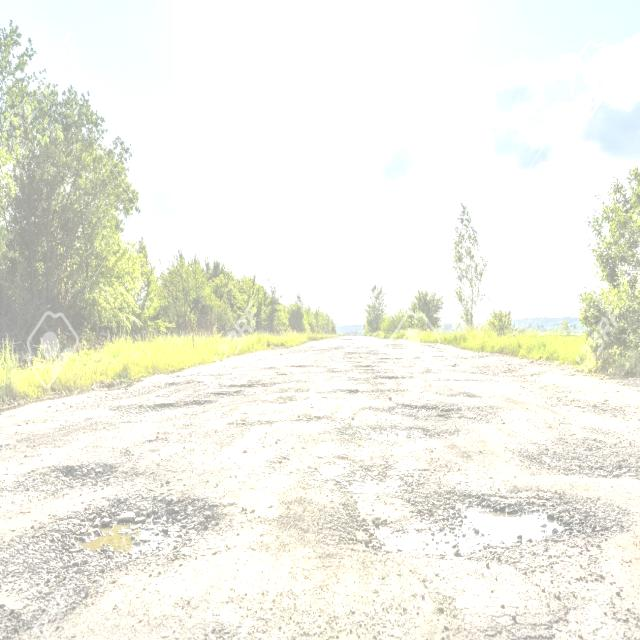Pothole: (39, 438, 241, 628), (340, 453, 604, 555)
